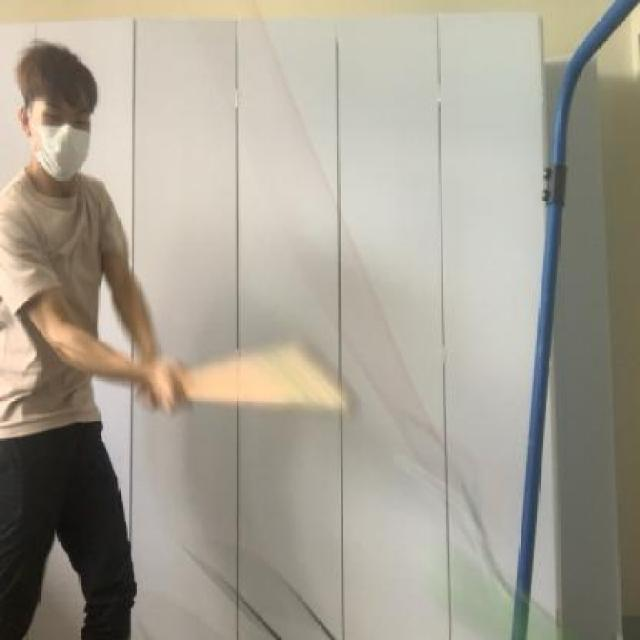baseball: (416, 523, 576, 640)
